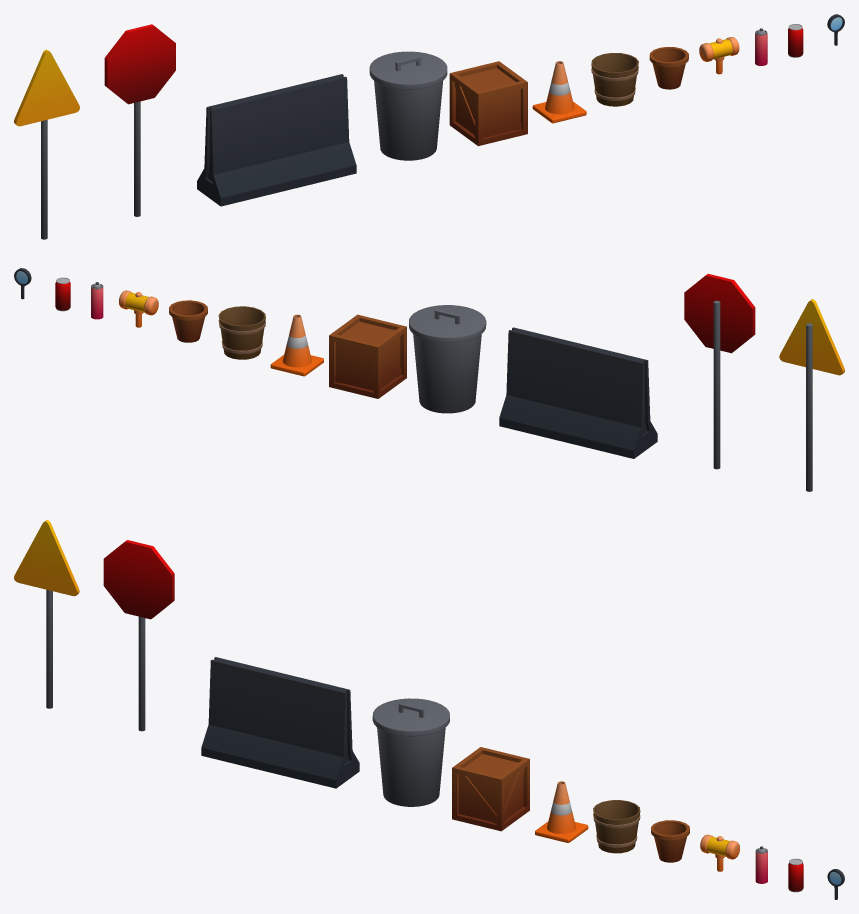
Rendered from random object.fbx.
The picture shows the model from 3 angles, top to bottom: view 1: azimuth 30°, elevation 25°; view 2: azimuth 150°, elevation 25°; view 3: azimuth 330°, elevation 25°; orthographic projection.
Parts seen in each view (by area): view 1: Road Barrier, Trash Can, Box, Red Sign, Yellow Sign, Wooden Bucket, Cone, Pot, Hammer, Can, Spray; view 2: Road Barrier, Trash Can, Box, Red Sign, Yellow Sign, Wooden Bucket, Cone, Pot, Hammer, Can, Spray; view 3: Road Barrier, Trash Can, Box, Red Sign, Yellow Sign, Wooden Bucket, Cone, Pot, Hammer.
Part boxes in pixels (bbox=[...]): Road Barrier: bbox=[197, 74, 356, 206]; Trash Can: bbox=[369, 51, 447, 160]; Box: bbox=[449, 61, 527, 146]; Red Sign: bbox=[104, 24, 175, 216]; Yellow Sign: bbox=[14, 49, 79, 239]; Wooden Bucket: bbox=[591, 53, 638, 106]; Cone: bbox=[532, 61, 586, 123]; Pot: bbox=[649, 47, 688, 89]; Hammer: bbox=[699, 37, 739, 74]; Can: bbox=[788, 24, 803, 57]; Spray: bbox=[755, 28, 767, 65]; Road Barrier: bbox=[499, 327, 657, 458]; Trash Can: bbox=[409, 305, 486, 413]; Box: bbox=[329, 314, 406, 398]; Red Sign: bbox=[684, 273, 755, 469]; Yellow Sign: bbox=[779, 299, 844, 491]; Wooden Bucket: bbox=[218, 306, 265, 359]; Cone: bbox=[270, 314, 323, 376]; Pot: bbox=[169, 300, 207, 342]; Hammer: bbox=[119, 290, 158, 327]; Can: bbox=[55, 277, 70, 311]; Spray: bbox=[91, 282, 103, 319]; Road Barrier: bbox=[201, 657, 359, 788]; Trash Can: bbox=[372, 698, 449, 806]; Box: bbox=[452, 747, 529, 831]; Red Sign: bbox=[103, 540, 174, 731]; Yellow Sign: bbox=[14, 520, 79, 708]; Wooden Bucket: bbox=[593, 800, 640, 853]; Cone: bbox=[535, 781, 588, 842]; Pot: bbox=[651, 820, 689, 862]; Hammer: bbox=[700, 834, 739, 871].
Bounding box in the file's own units: 670 × 146 × 54.43.
Materials: 12 (12 with a texture image).
